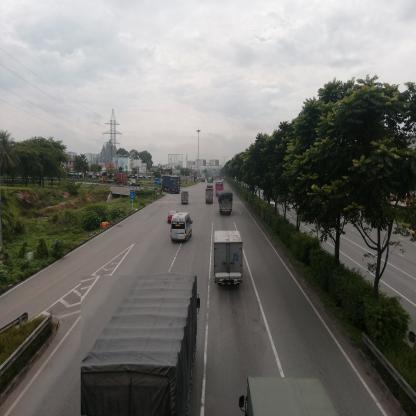bus: (217, 182, 225, 192)
car: (172, 212, 194, 243), (168, 209, 177, 225)
container: (100, 174, 129, 187), (163, 177, 183, 195)
truck: (82, 277, 198, 416), (215, 232, 244, 284), (221, 192, 234, 216), (206, 191, 214, 207), (183, 192, 190, 206), (130, 181, 137, 191)
